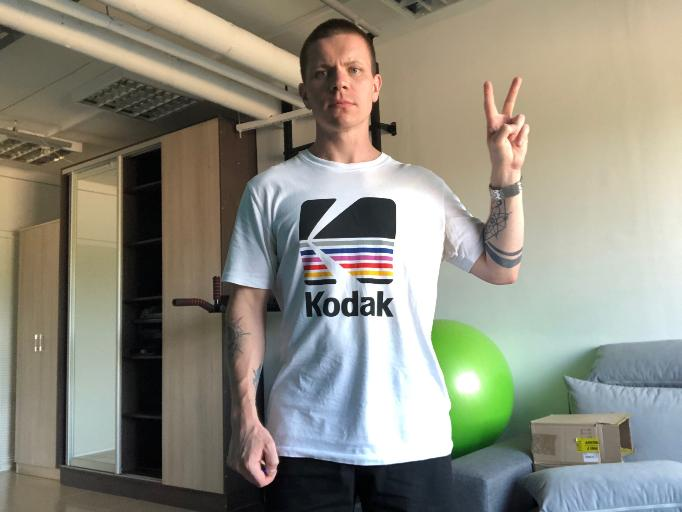no_gesture: (222, 421, 282, 490)
peace: (479, 74, 532, 173)
